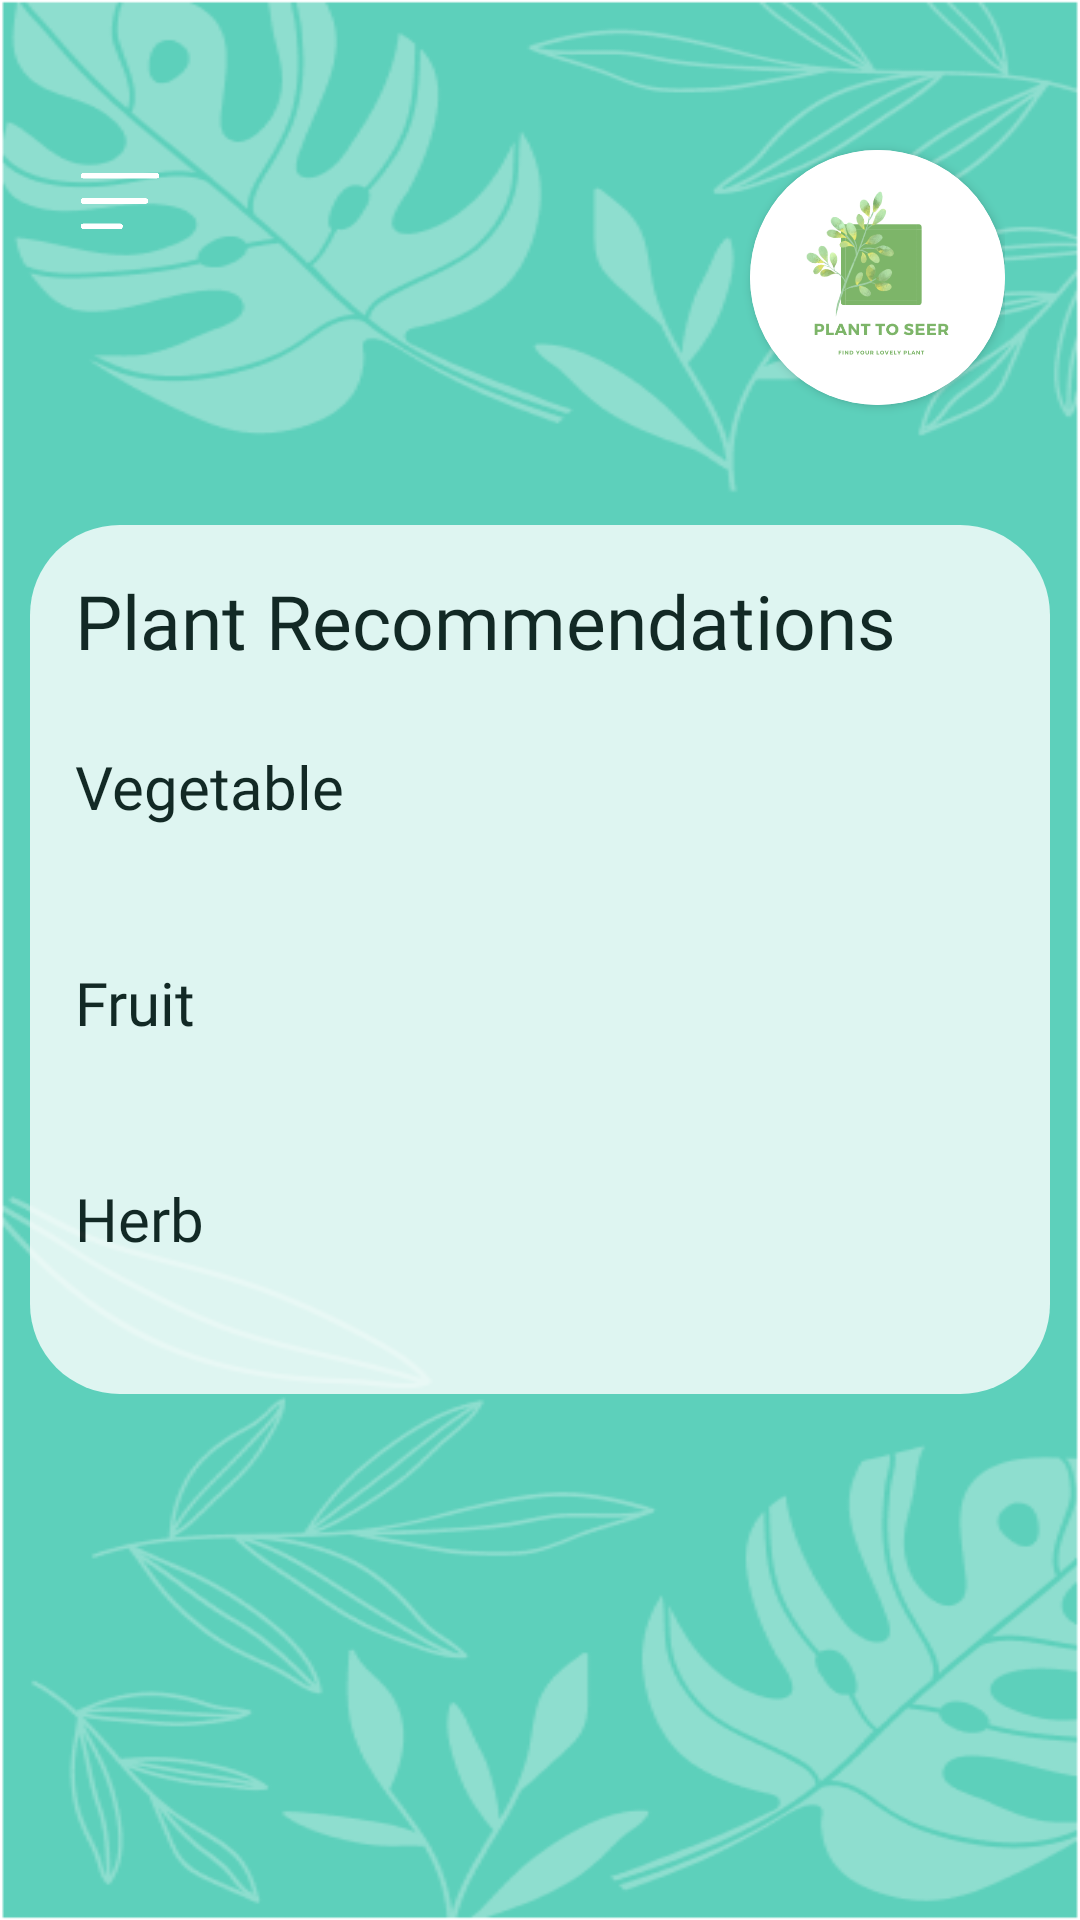

Named icons in this screenshot (1080w x 1920h) and their centers, point (x, y):
list: point (120, 201)
